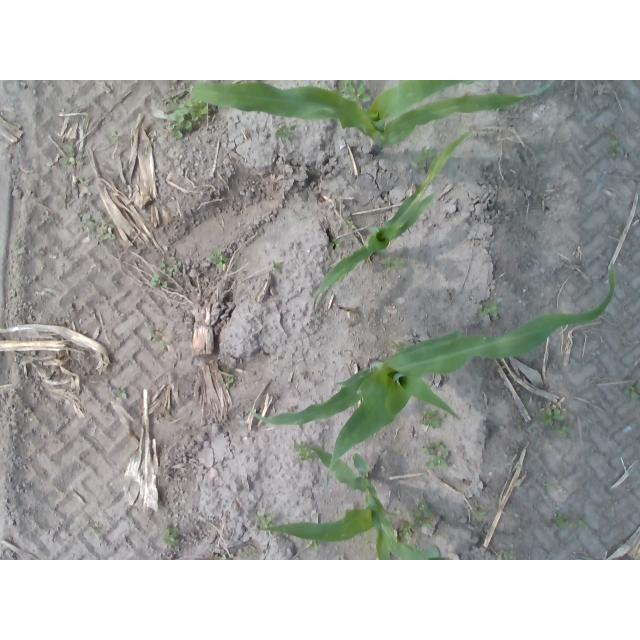Maize: (245, 263, 617, 489), (311, 131, 473, 314), (189, 80, 553, 152), (252, 446, 428, 560)
Weeds: (153, 91, 210, 139), (336, 80, 373, 110), (83, 212, 117, 241), (422, 441, 450, 470), (411, 145, 438, 169), (58, 143, 85, 167), (416, 408, 444, 429), (413, 503, 433, 530), (159, 256, 182, 277), (210, 248, 231, 269), (540, 409, 563, 428), (295, 441, 314, 464), (478, 298, 499, 318), (622, 379, 640, 402), (381, 256, 404, 272), (161, 526, 179, 546), (274, 124, 296, 140), (398, 522, 415, 541), (607, 139, 624, 157), (570, 517, 590, 532), (151, 272, 169, 287), (257, 515, 275, 529), (159, 336, 178, 349), (424, 546, 441, 559), (553, 515, 568, 529), (497, 549, 516, 560), (392, 340, 409, 352), (471, 511, 489, 522), (555, 424, 569, 437), (272, 261, 285, 275), (110, 131, 122, 144), (113, 389, 128, 399), (330, 238, 343, 249), (344, 220, 357, 230), (309, 539, 320, 550), (225, 376, 235, 388), (545, 483, 558, 490), (14, 238, 21, 246)
